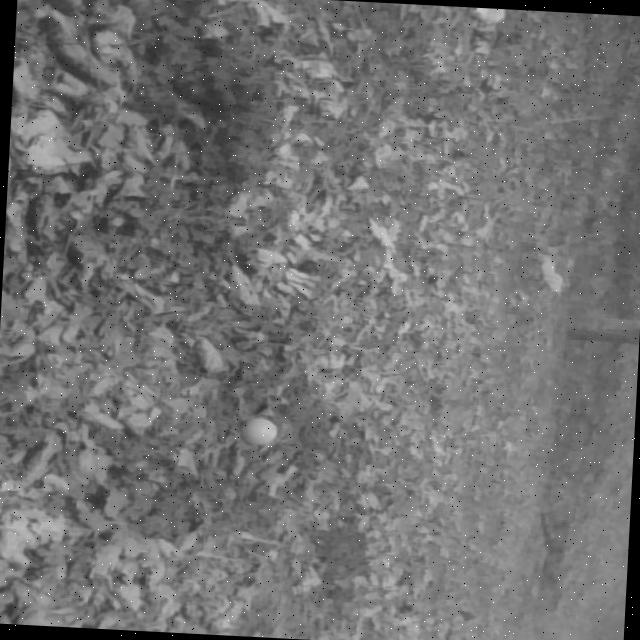ping-pong-ball: (240, 418, 278, 444)
